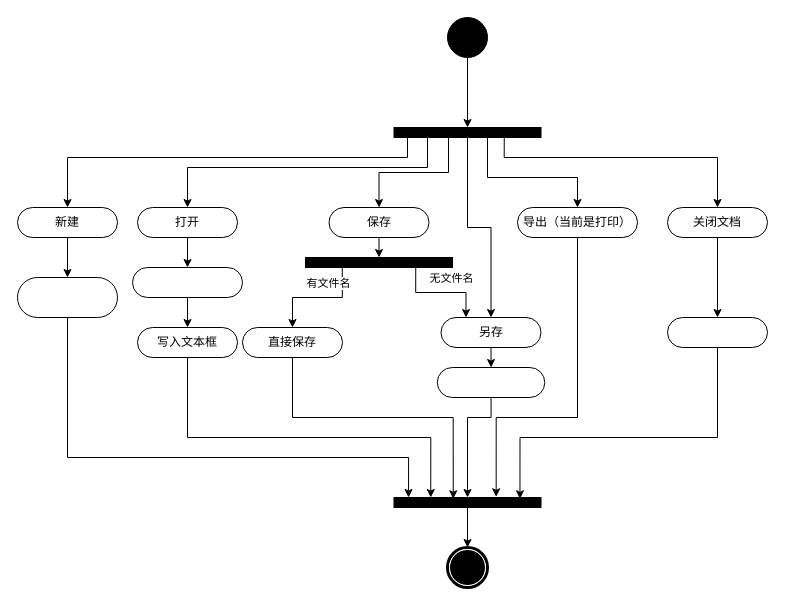
Image size: 785x605. Some labels were removed from this diagram. Each missing label, with the box of its shape:
创建文件名与地址: (436, 366, 545, 398)
创建新窗口 创建新文本框: (16, 276, 118, 318)
按行读入文件内容: (132, 266, 242, 298)
退出程序运行: (666, 316, 768, 348)
